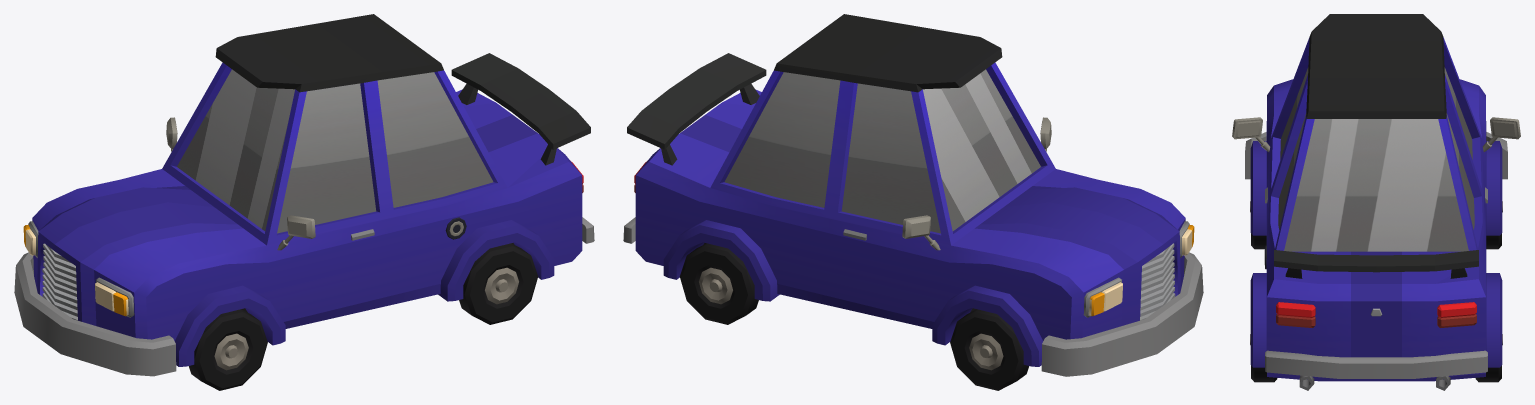
Rendered from Car_2_D.gltf.
3 renders of one model, left to right at view 1: azimuth 30°, elevation 25°; view 2: azimuth 150°, elevation 25°; view 3: azimuth 270°, elevation 25°, orthographic.
Parts seen in each view (by area): view 1: Car_2_D, RL, FL; view 2: Car_2_D, RR, FR; view 3: Car_2_D, RL, RR.
Part boxes in pixels (x1,y1,x2,y2): Car_2_D: (14, 14, 594, 376); RL: (459, 243, 538, 324); FL: (188, 309, 267, 390); Car_2_D: (623, 14, 1203, 376); RR: (679, 243, 758, 324); FR: (950, 309, 1029, 390); Car_2_D: (1232, 14, 1520, 390); RL: (1250, 334, 1277, 382); RR: (1475, 334, 1502, 382).
Size of the model in its own units: 3.64 by 1.8 by 1.78.
Materials: 4 (4 with a texture image).
